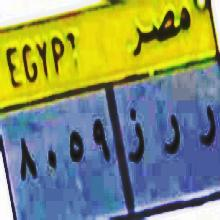0: (42, 137, 61, 182)
5: (64, 122, 86, 176)
8: (15, 124, 37, 190)
9: (91, 115, 112, 172)
raa: (159, 99, 185, 162), (198, 104, 216, 161)
zay: (125, 101, 144, 175)
